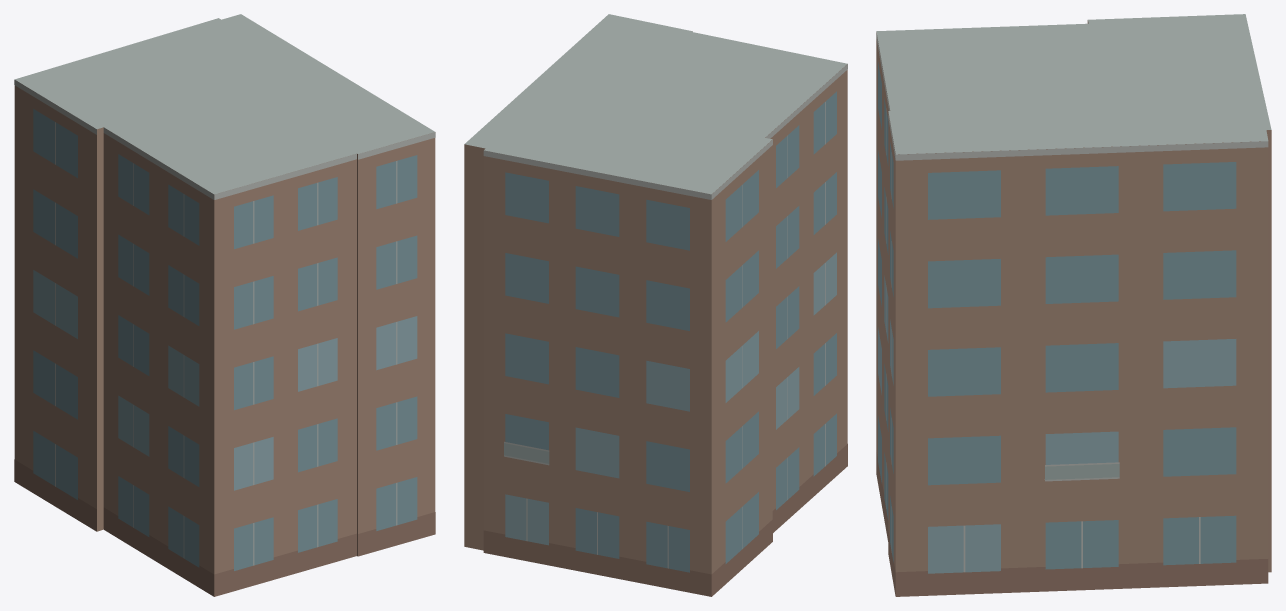
The model's file is survey-upis-32654458.glb.
3 views of the same model, side by side, from view 1: azimuth 30°, elevation 25°; view 2: azimuth 150°, elevation 25°; view 3: azimuth 270°, elevation 25° (orthographic). The views are drawn at different scales.
Parts seen in each view (by area): view 1: survey-upis-32654458.tmp; view 2: survey-upis-32654458.tmp; view 3: survey-upis-32654458.tmp.
Boxes of the visible parts, x1=… form: survey-upis-32654458.tmp: x1=14, y1=14, x2=435, y2=596; survey-upis-32654458.tmp: x1=464, y1=14, x2=847, y2=596; survey-upis-32654458.tmp: x1=876, y1=14, x2=1271, y2=596.
Size of the model in its own units: 11.8 by 17.3 by 14.02.
